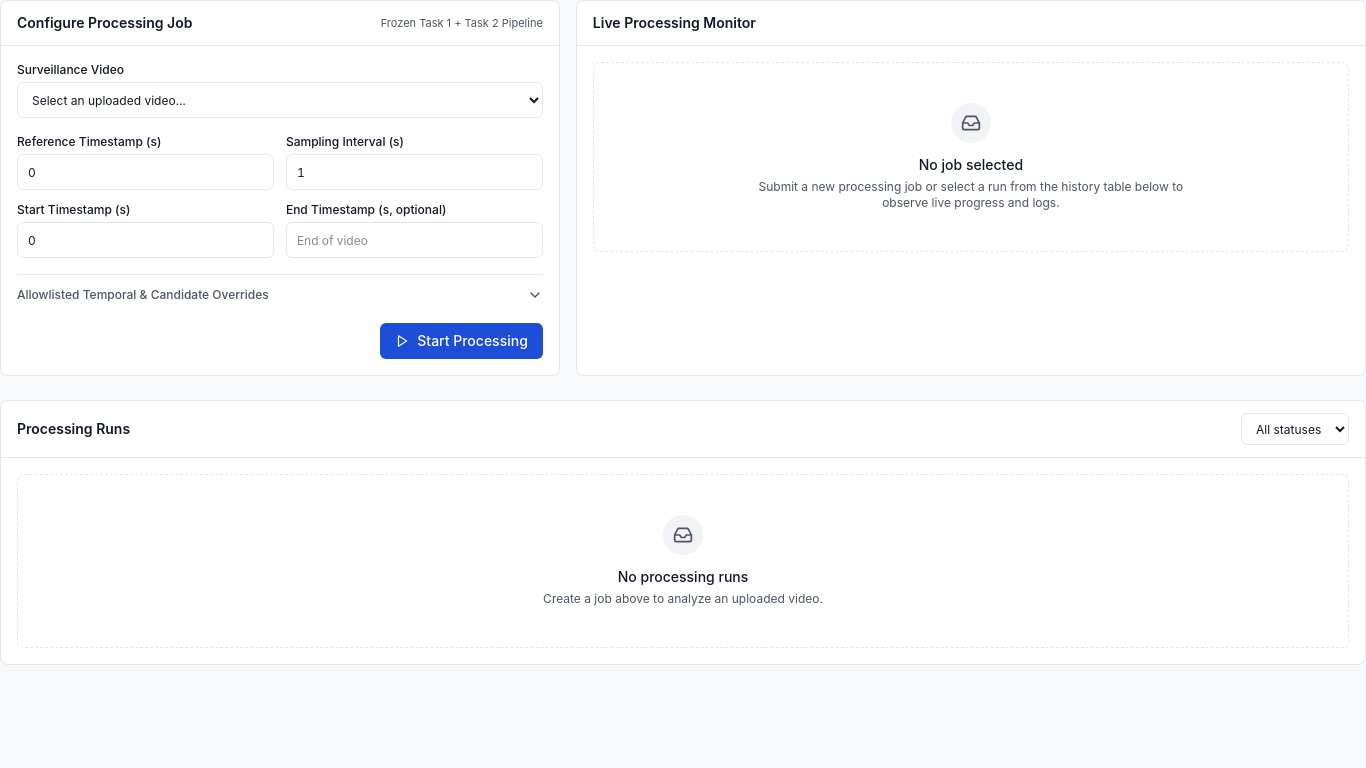
Test: Pages & Integration Behavior › validates ProcessingPage form timestamps and required video
Click the button "Start Processing" at coordinates (462, 341), box [380,323,543,359]
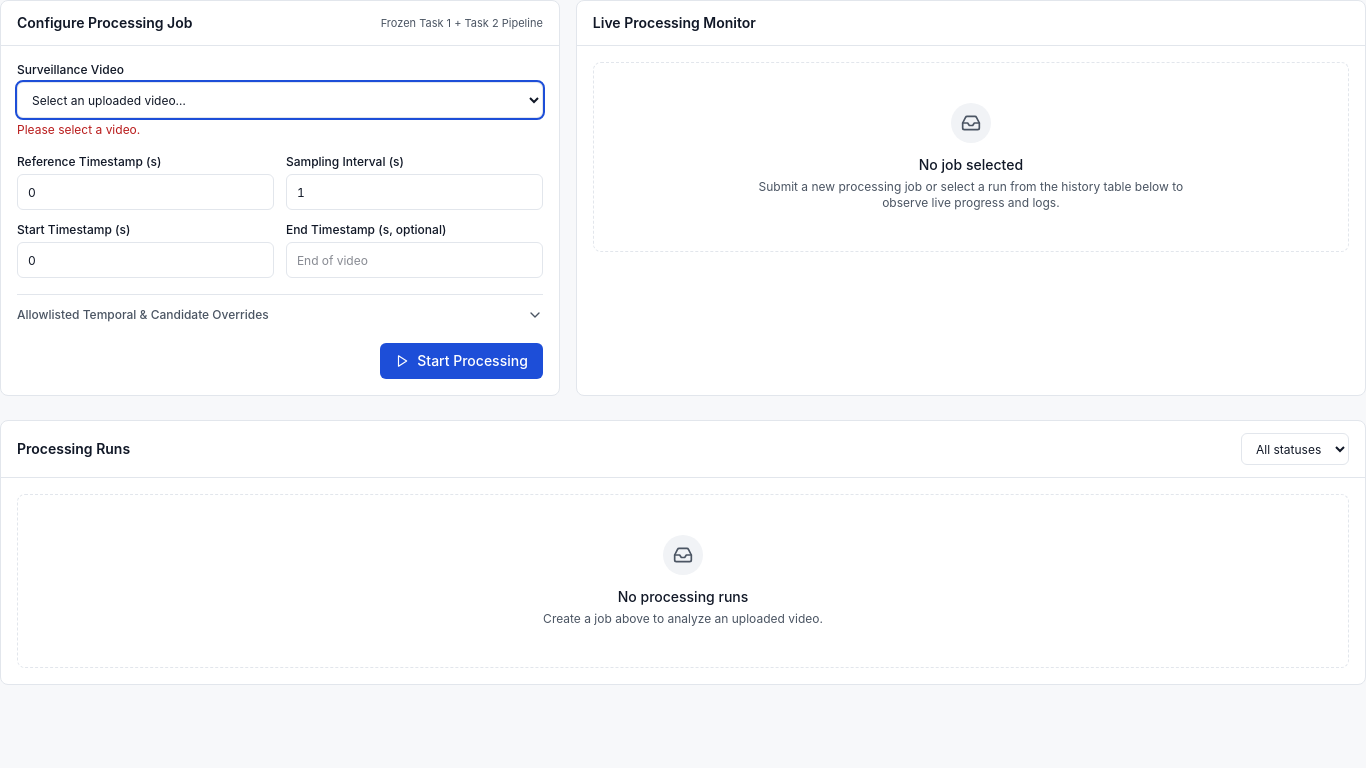
Now the text "Please select a video." is shown, box [17,122,140,137]
